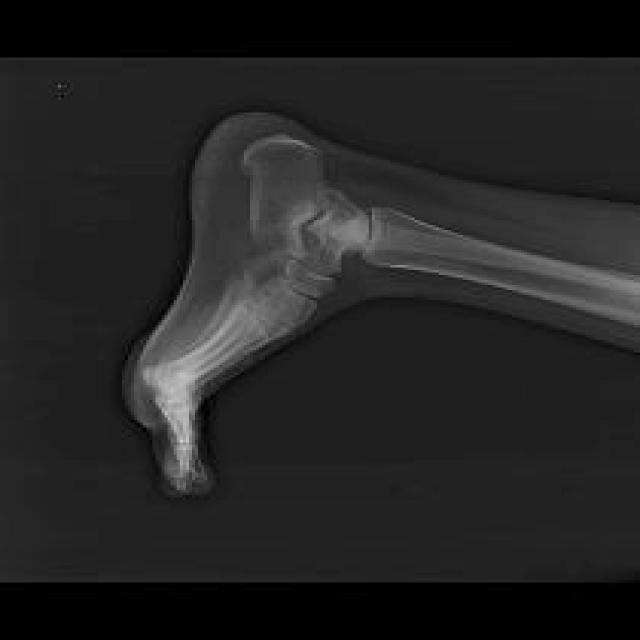normal: (148, 135, 638, 481)
